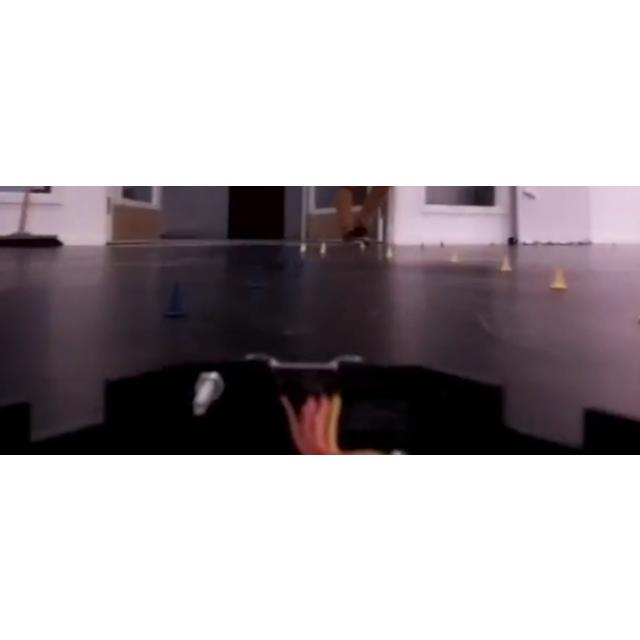cones: (165, 279, 189, 317), (550, 266, 568, 290)
